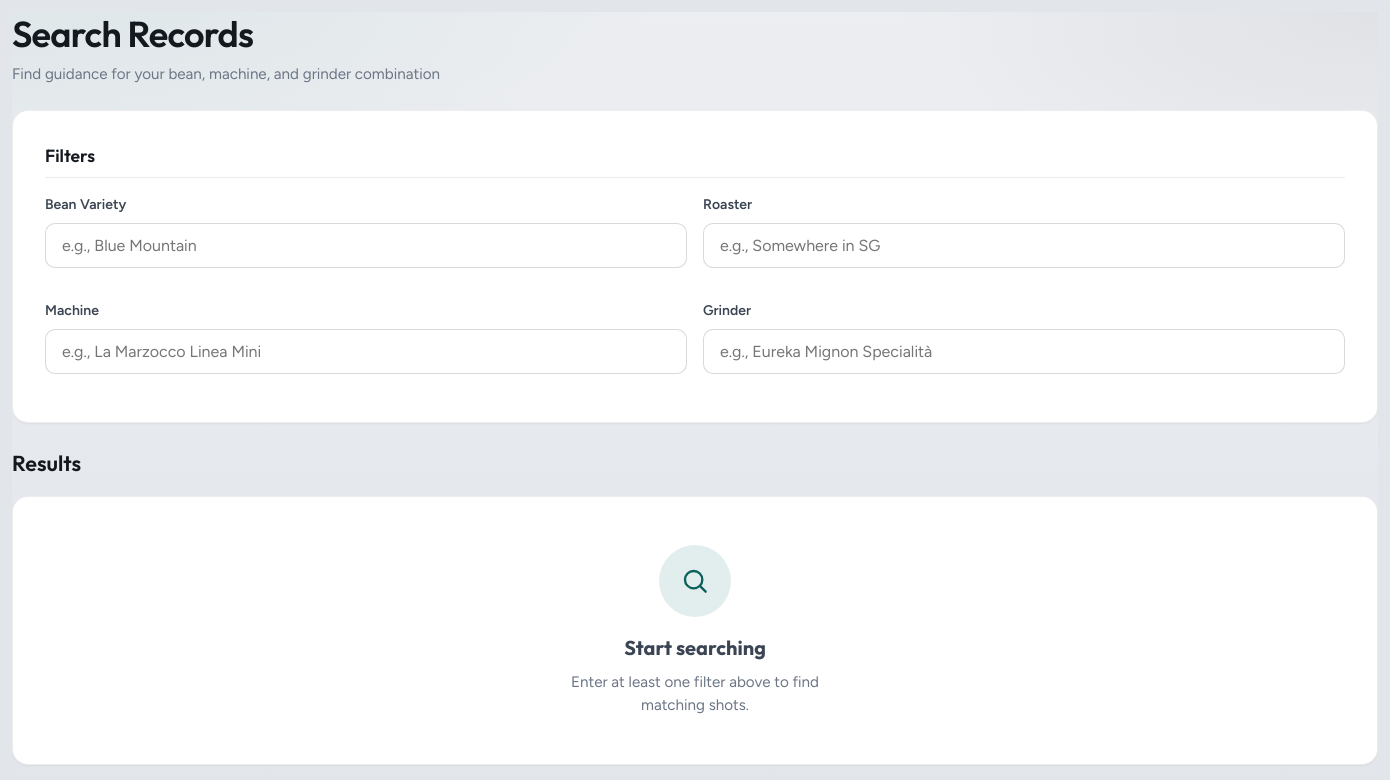
Test: Search › should display search results
Step 1. Type "La Marzocco" into the field with placeholder "e.g., La Marzocco Linea Mini" → (366, 352), box [45,329,687,374]
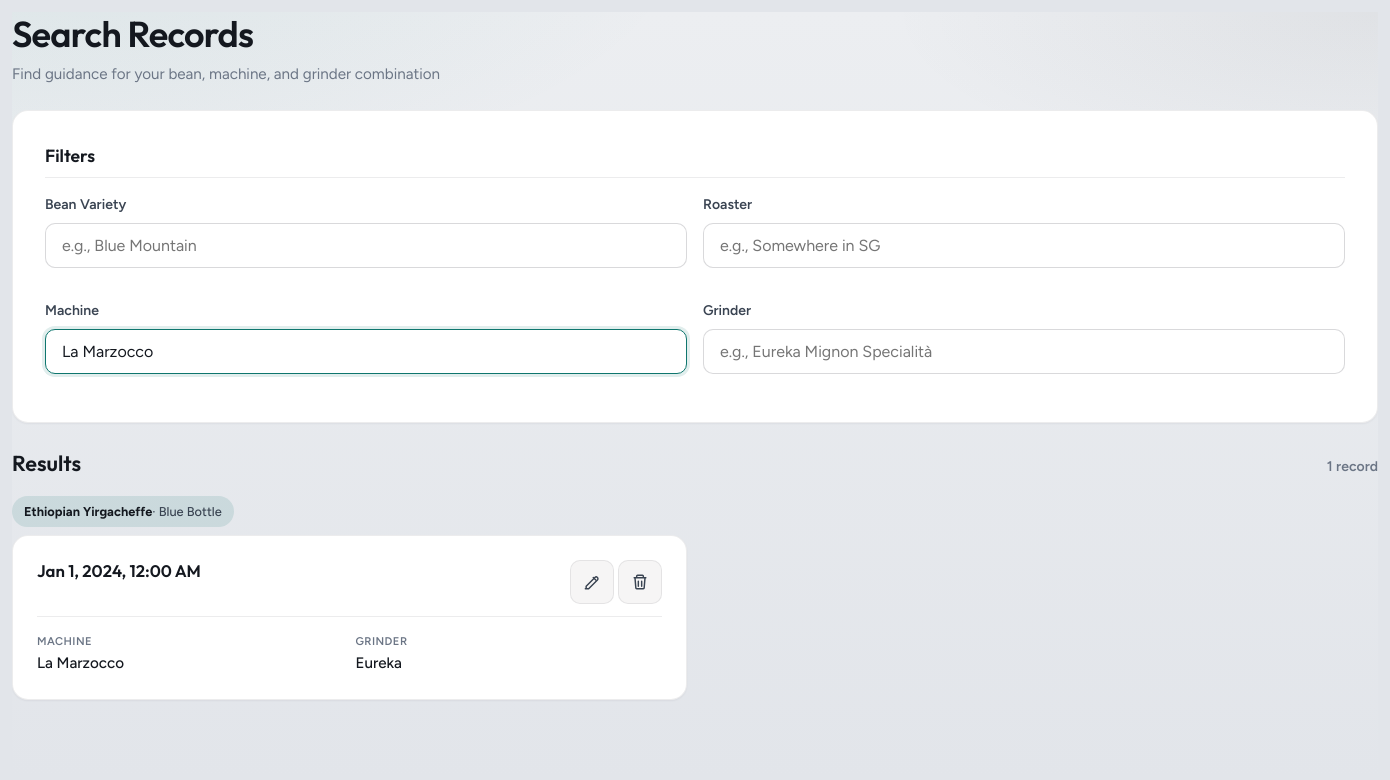
expect the text "La Marzocco" is shown: met, box [37,654,124,672]
expect the text "Eureka" is shown: met, box [356,654,402,672]
expect the text "Ethiopian Yirgacheffe" is shown: met, box [24,502,152,521]
